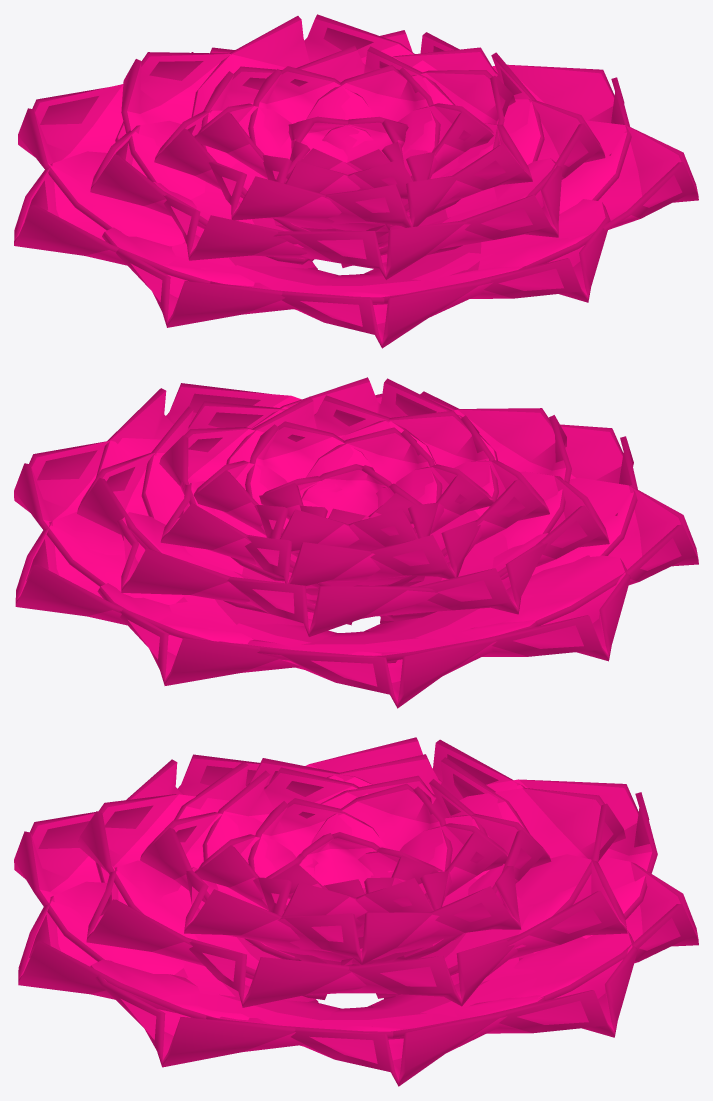
File: garden-rose-bloom-head-3-ff0088.glb
3 views of the same model, one above another, from view 1: azimuth 30°, elevation 25°; view 2: azimuth 150°, elevation 25°; view 3: azimuth 270°, elevation 25° (orthographic). The views are drawn at different scales.
Visible parts, largest first — view 1: rose-bloom-head-3-ff0088; view 2: rose-bloom-head-3-ff0088; view 3: rose-bloom-head-3-ff0088.
Boxes of the visible parts, x1,y1,x2,y2 form: rose-bloom-head-3-ff0088: (14,14,698,348); rose-bloom-head-3-ff0088: (14,377,698,708); rose-bloom-head-3-ff0088: (14,737,698,1086).
Bounding box in the file's own units: 0.1594 × 0.0402 × 0.1493.
